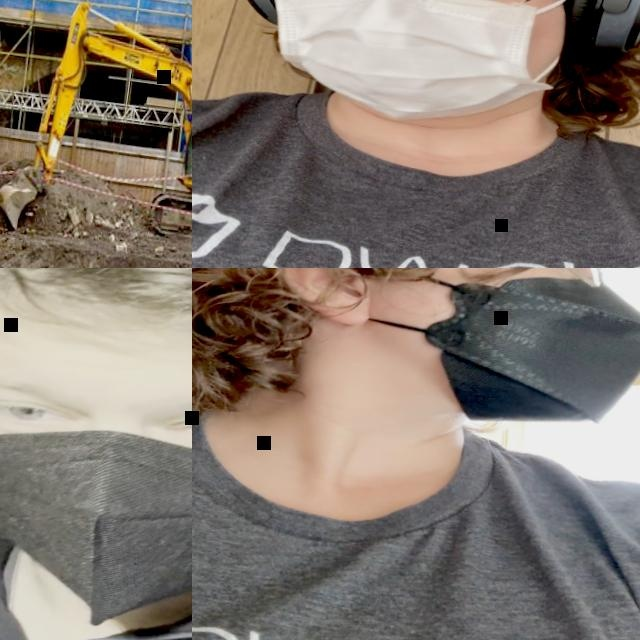Mask: (322, 268, 640, 445), (0, 381, 192, 640), (249, 0, 573, 134)
NO-Hardhat: (0, 268, 192, 395)
NO-Safety Vest: (192, 387, 640, 640), (192, 65, 640, 268), (0, 485, 192, 640)
Person: (192, 268, 640, 640), (192, 0, 640, 268), (0, 268, 192, 640)
machinery: (0, 0, 192, 264)
